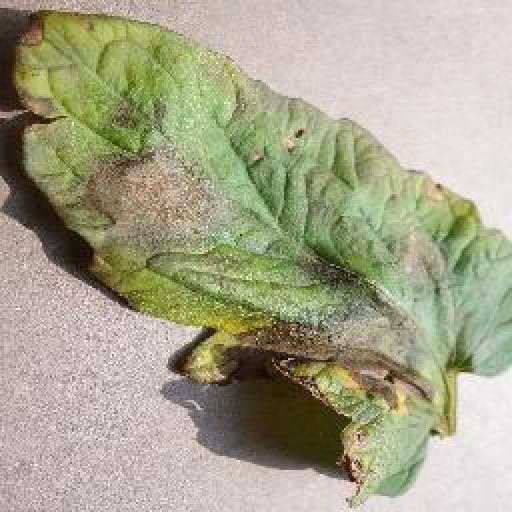disease_tomato: (12, 10, 510, 512)
